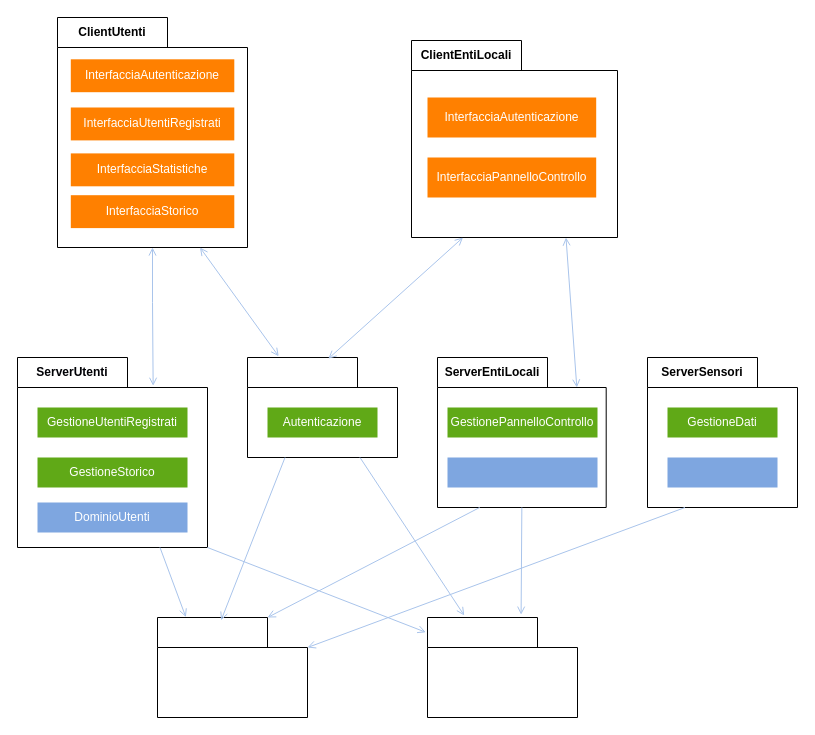
Image size: 815x735. Some labels were removed from this diagram. Each missing label, with the centre of its shape:
"DataPersistence" goes at [232,667].
"DominioEntiLocali" goes at [522,472].
"DominioSensori" goes at [722,472].
"LogPersistence" goes at [502,667].
"ServerLogin" goes at [322,407].
